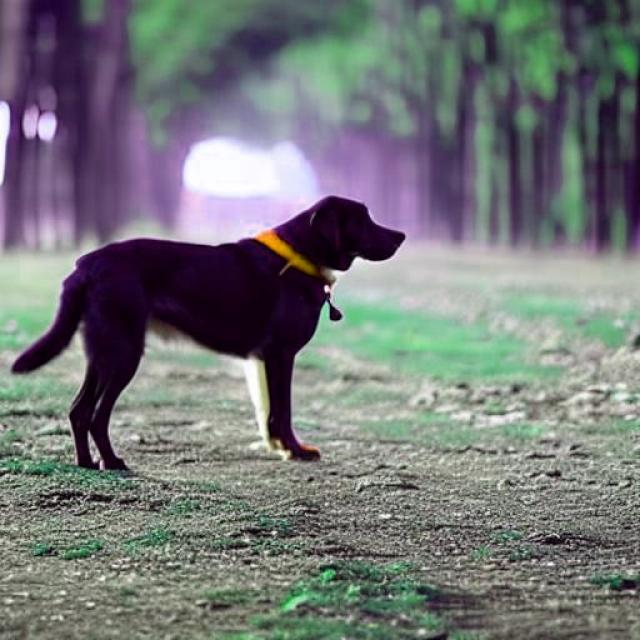Dog: (10, 195, 407, 473)
